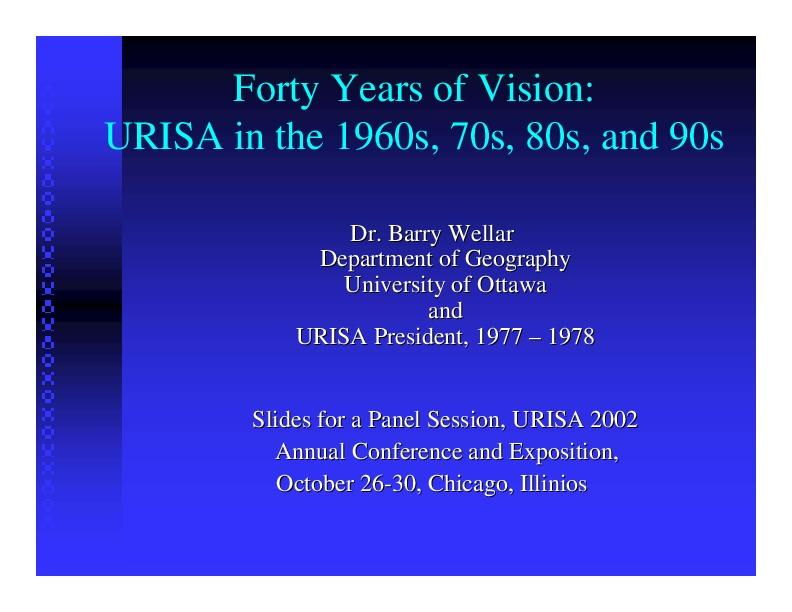subtitle: (269, 211, 616, 361), (247, 399, 652, 507)
title: (90, 52, 731, 181)
